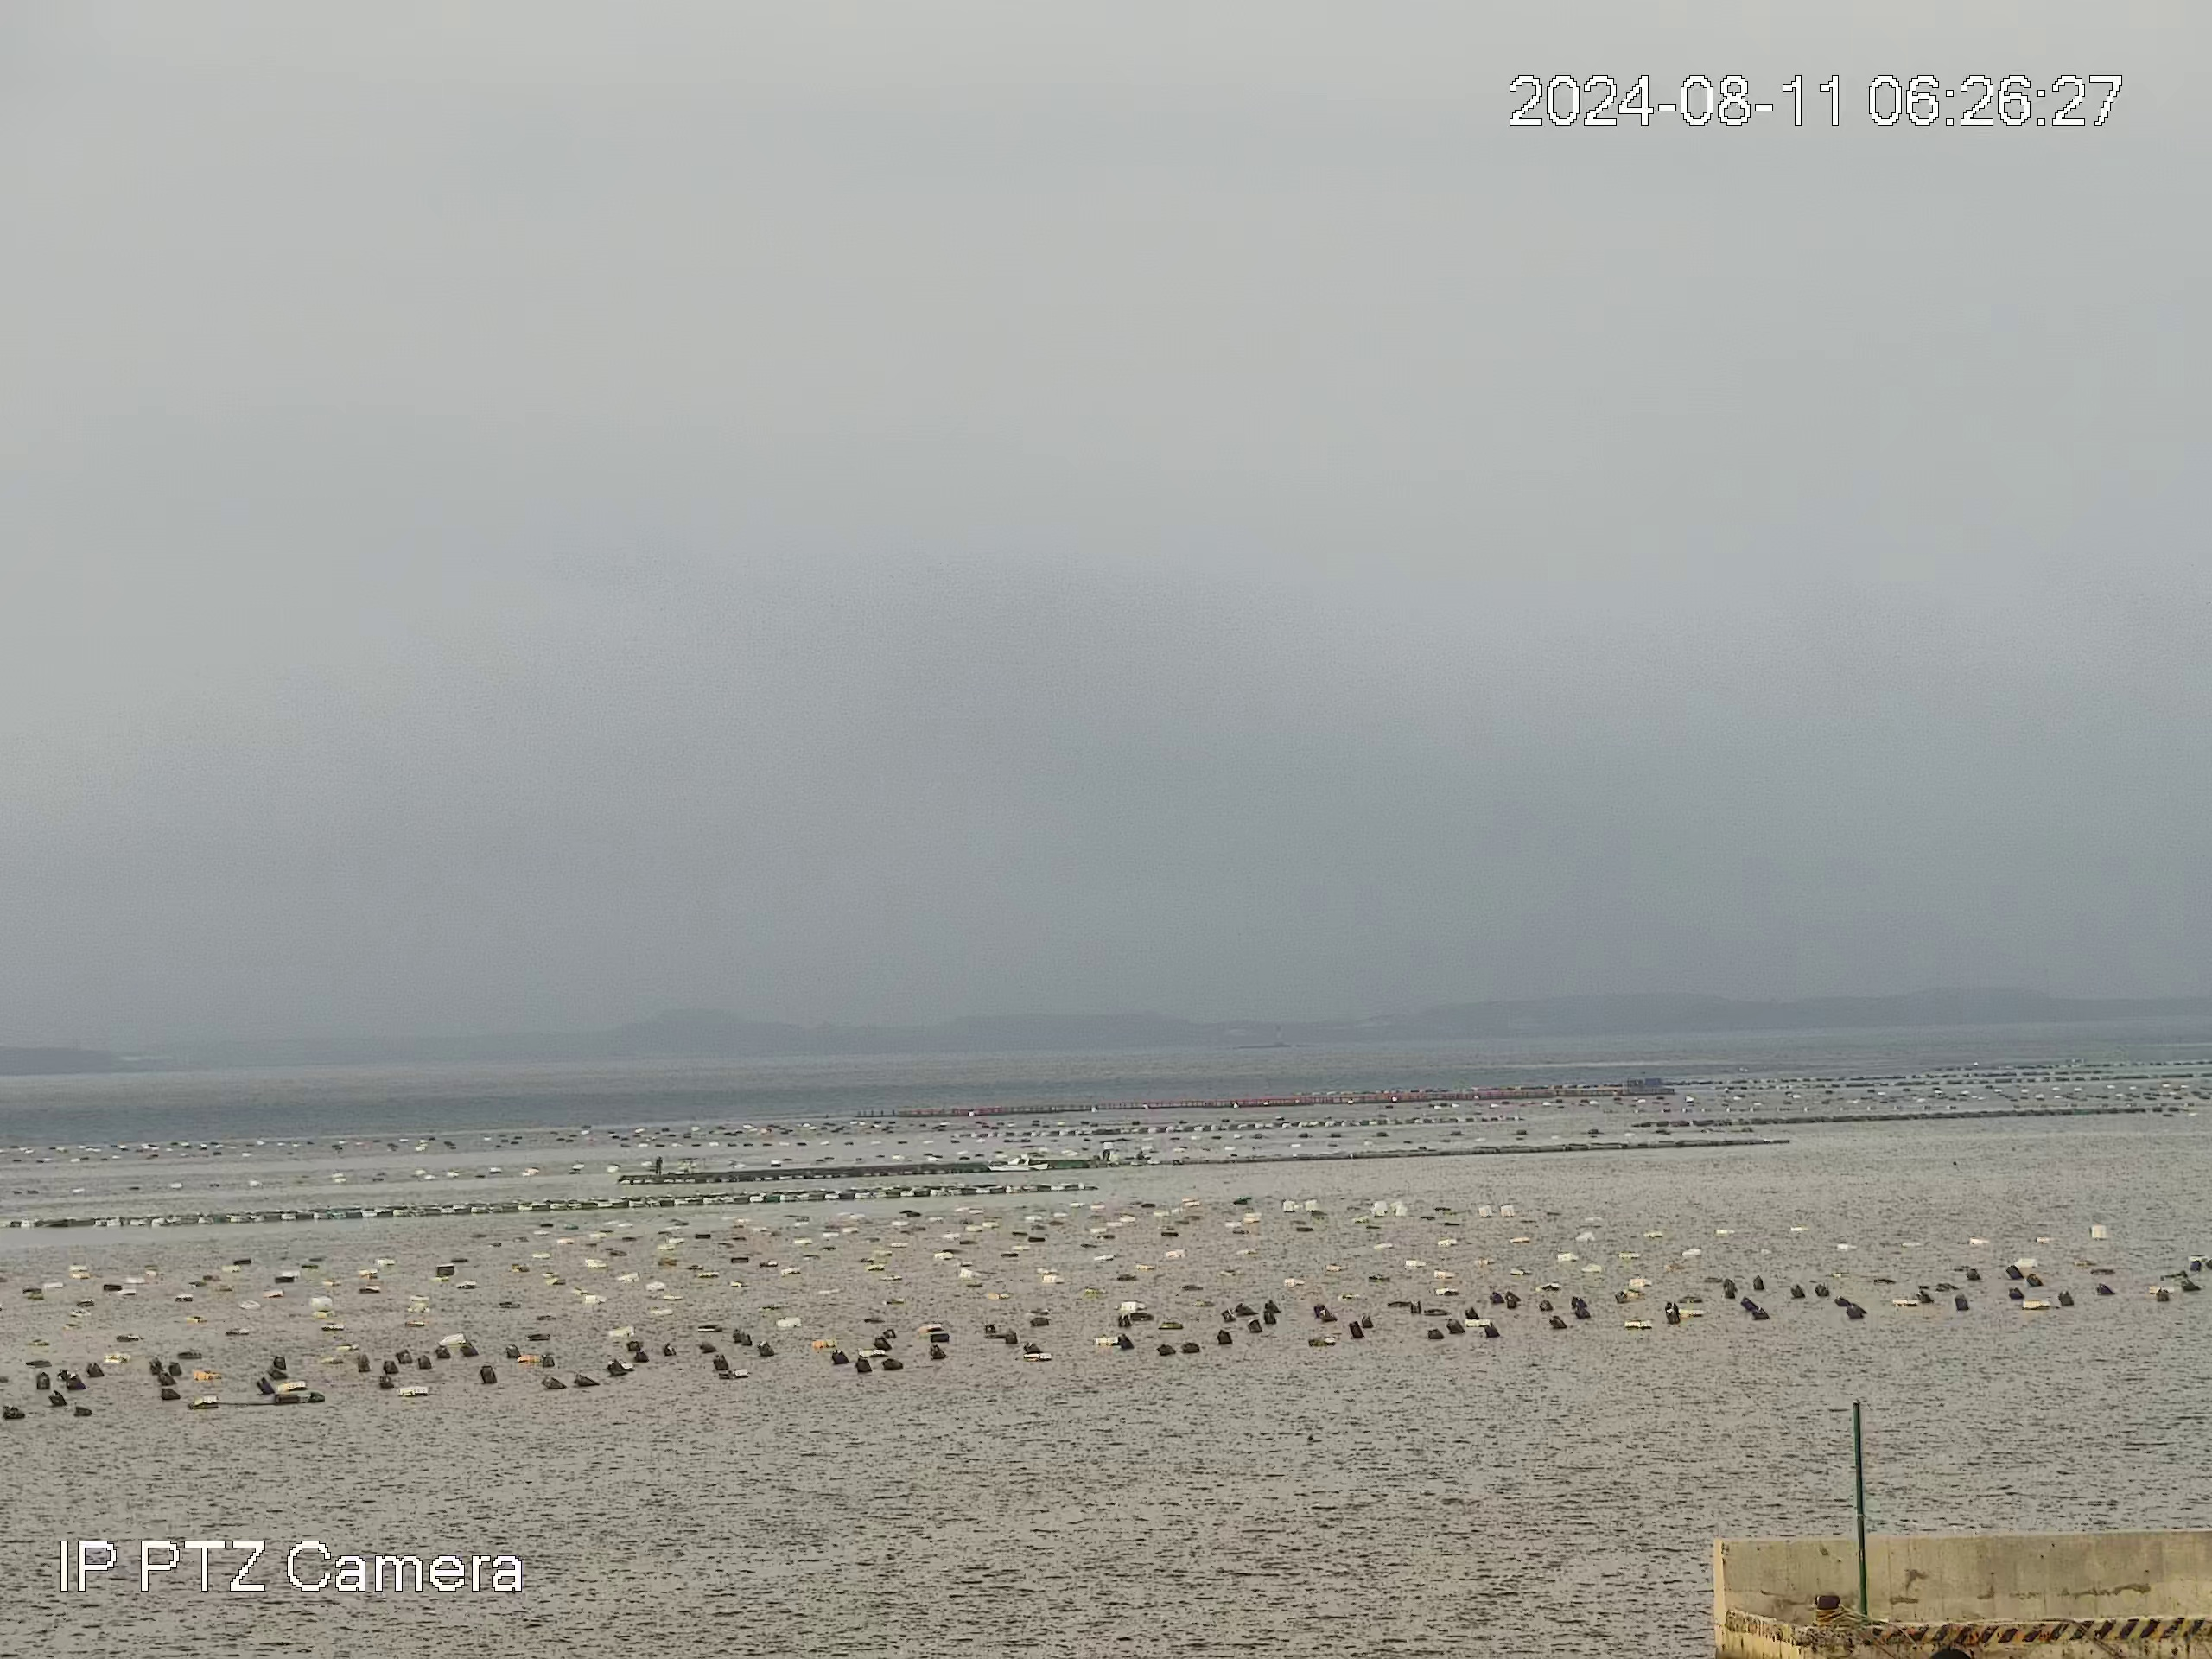boat: (987, 1151, 1050, 1173)
